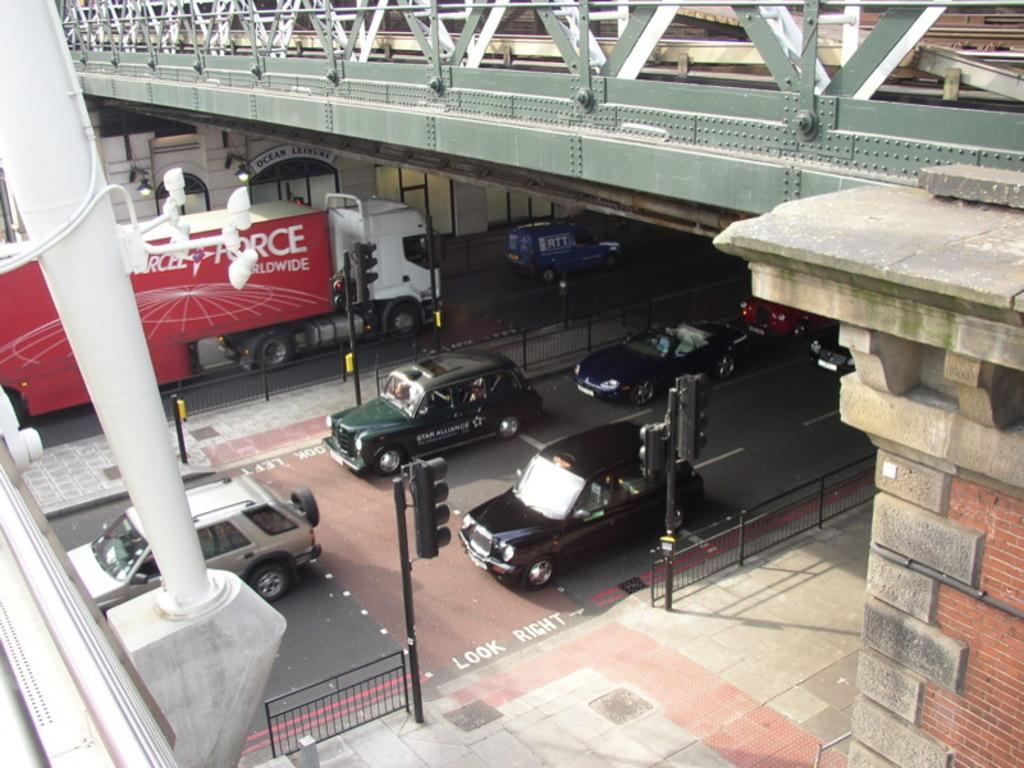Car: (454, 415, 705, 588), (63, 475, 323, 603), (317, 360, 548, 486), (564, 310, 748, 404), (507, 219, 623, 280), (741, 292, 828, 339), (803, 328, 858, 374)
